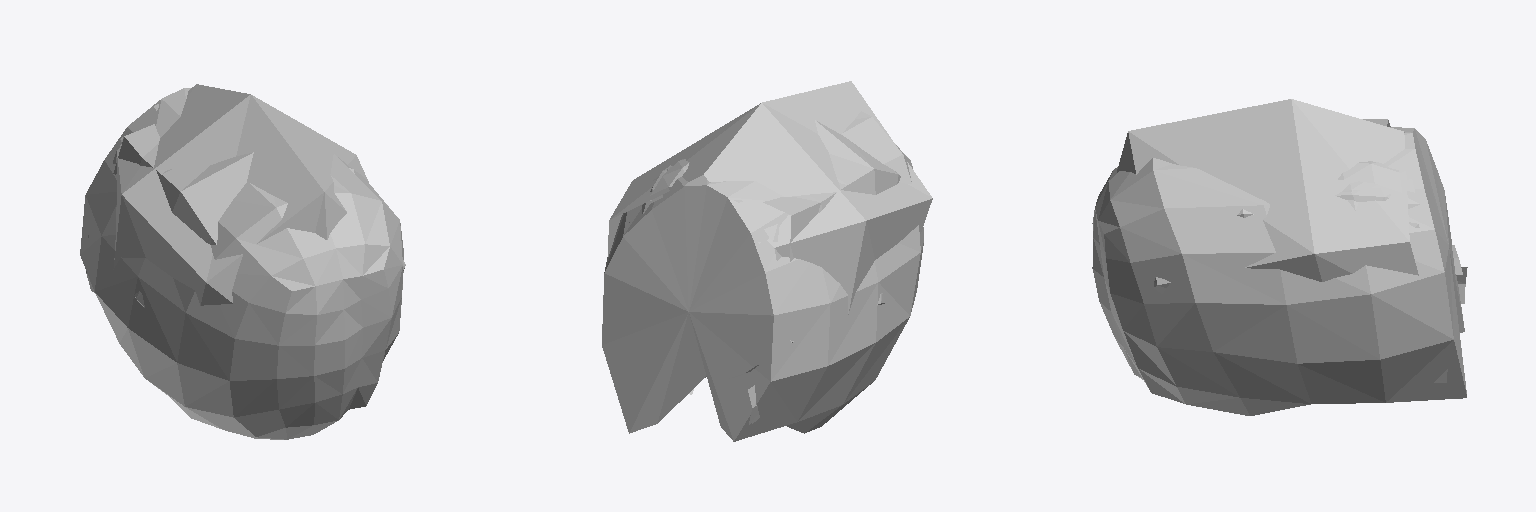
Rendered from hair_000_u.obj.
3 views of the same model, side by side, from view 1: azimuth 30°, elevation 25°; view 2: azimuth 150°, elevation 25°; view 3: azimuth 270°, elevation 25° (orthographic).
Parts seen in each view (by area): view 1: hair_000_u_high_2, hair_000_u_low_1, hair_000_u_med_1; view 2: hair_000_u_high_2, hair_000_u_low_1, hair_000_u_med_1, hair_000_u_high_1; view 3: hair_000_u_high_2, hair_000_u_low_1, hair_000_u_high_1.
Boxes of the visible parts, box(x1,y1,x2,y2) form: hair_000_u_high_2: box(80, 88, 403, 439); hair_000_u_low_1: box(88, 84, 405, 305); hair_000_u_med_1: box(113, 124, 354, 307); hair_000_u_high_2: box(602, 111, 923, 441); hair_000_u_low_1: box(608, 81, 932, 342); hair_000_u_med_1: box(689, 120, 900, 394); hair_000_u_high_1: box(629, 159, 779, 424); hair_000_u_high_2: box(1092, 127, 1466, 415); hair_000_u_low_1: box(1117, 99, 1418, 293); hair_000_u_high_1: box(1335, 161, 1467, 382).
Bounding box in the file's own units: 0.2168 × 0.2764 × 0.2983.